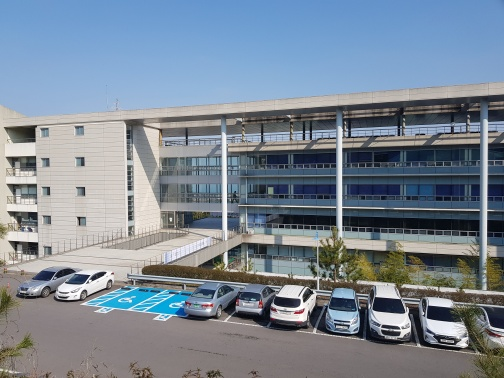Engineering College Building 4: (6, 104, 503, 271), (225, 137, 501, 258), (40, 119, 225, 258)
